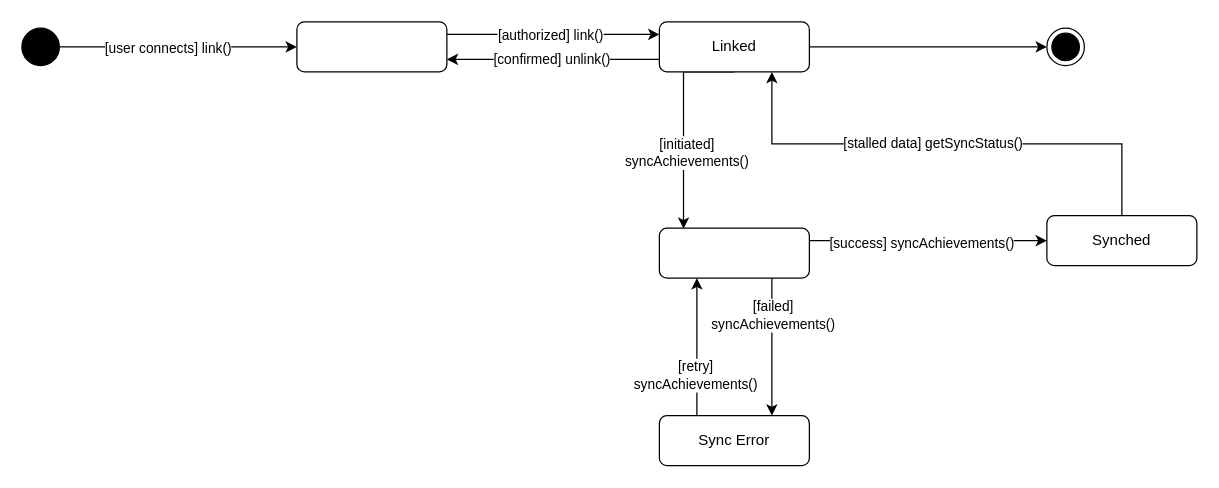
The diagram is 1219 pixels wide and 488 high, and some of its shapes have lost their labels. Each missing label, with the centre of its shape:
Syncing: point 733,252
Unlinked: point 371,46
